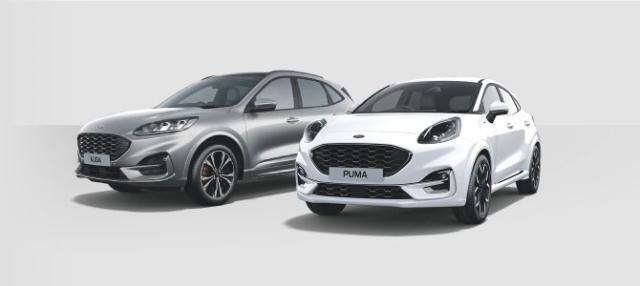ford: (74, 70, 360, 206), (296, 78, 542, 224)
